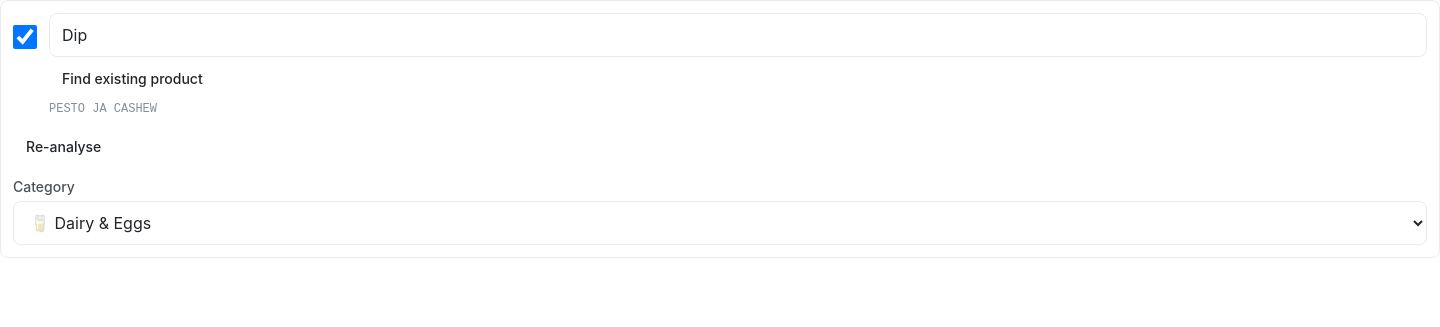
Scenario: re-analyse (Q38) › reveals the hint field only once opened
The width and height of the screenshot is (1440, 327).
Expected: the field with placeholder "what is it" is not shown
Click the button "Re-analyse" at (64, 147), box [13, 129, 114, 165]
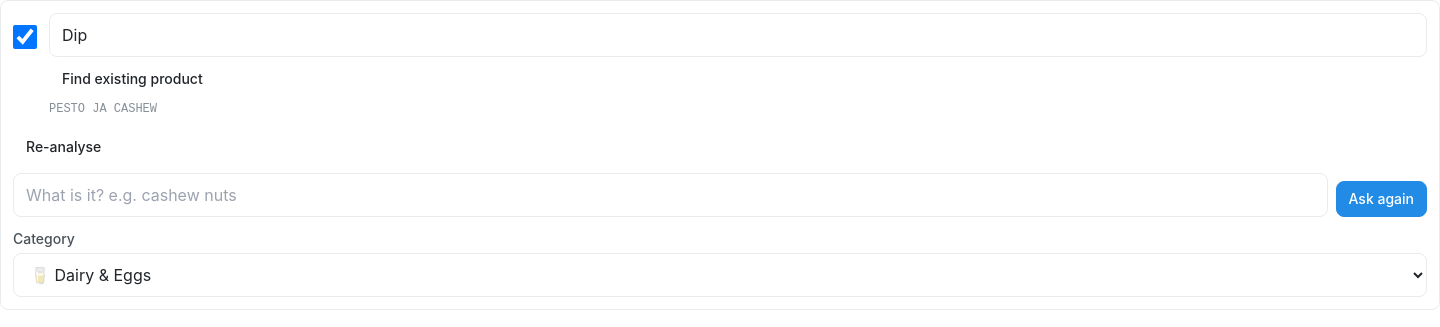
Result: the field with placeholder "What is it? e.g. cashew nuts" is shown at [13, 173, 1328, 217]
